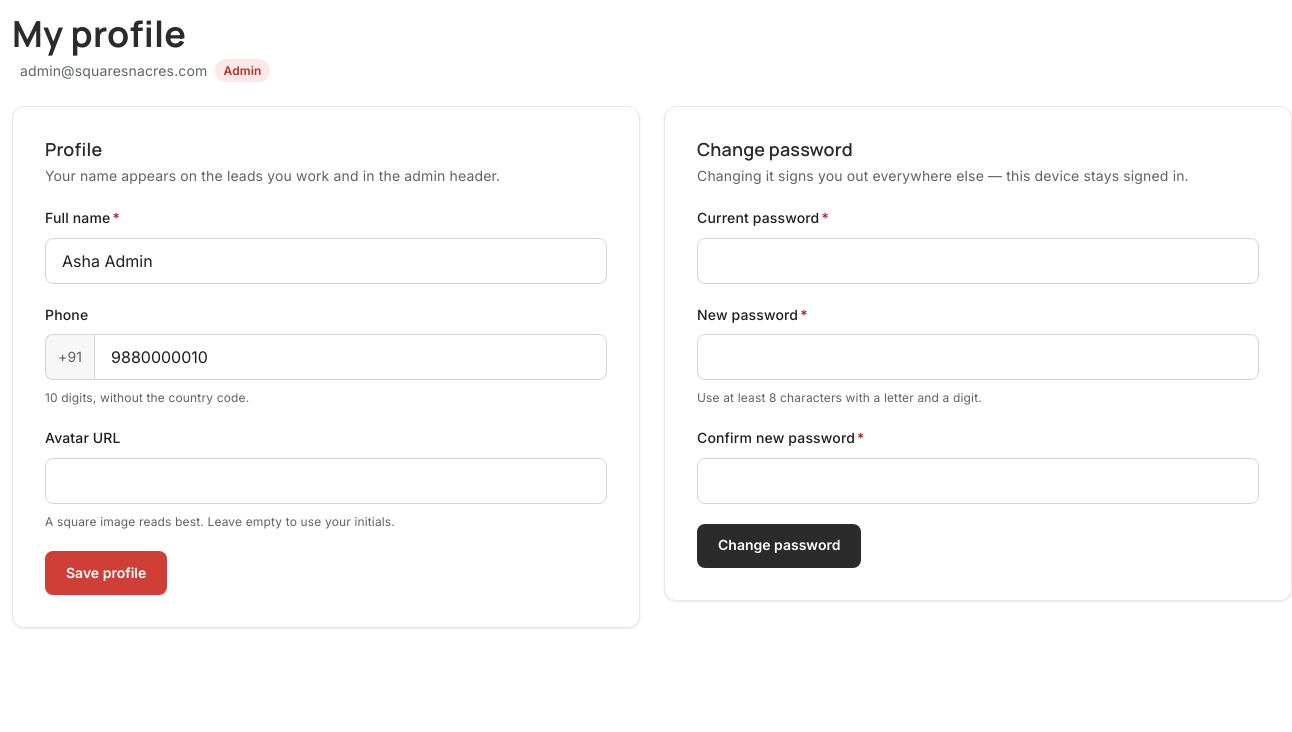
Test case: ProfilePage — the profile form (QA-65) › does not take an answer that is not the record for a save
Replace the text in the field labelled "Full name*" with "Asha Rao" at (326, 261), box [45,238,607,284]
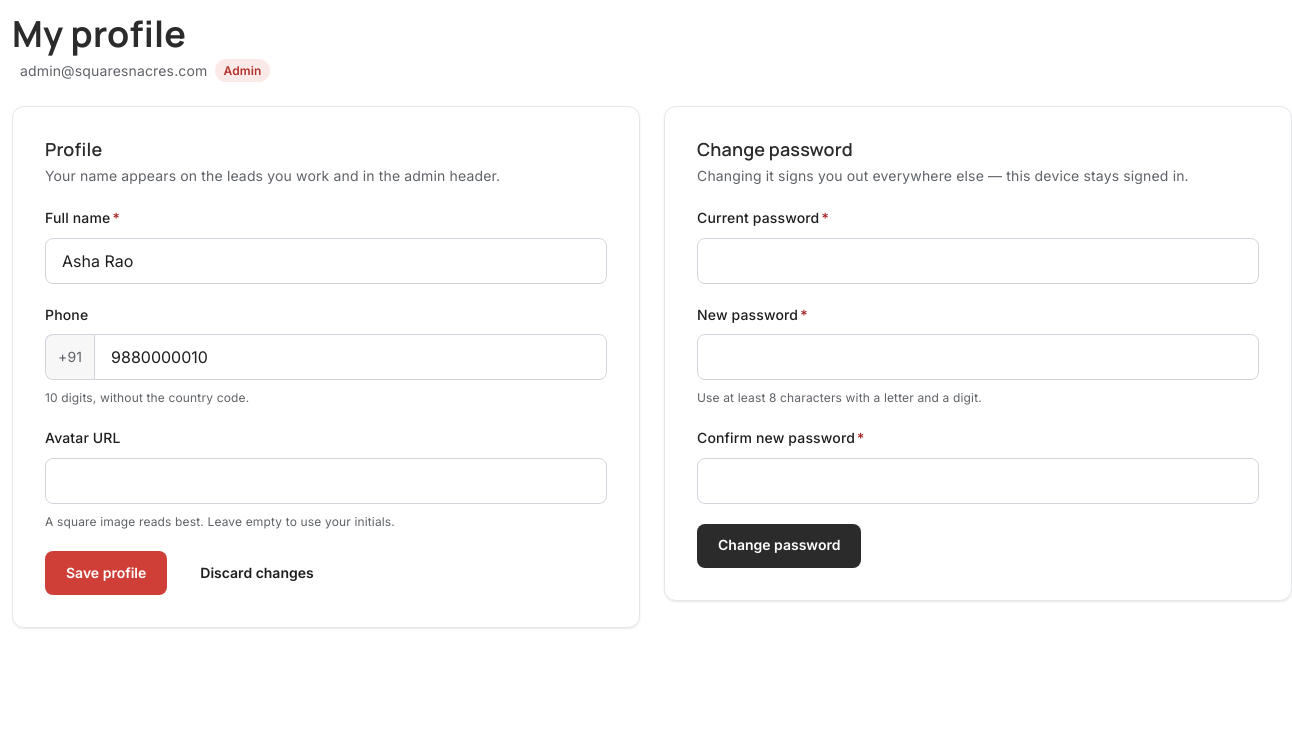
Click the button "Save profile" at (106, 573), box [45,551,167,595]
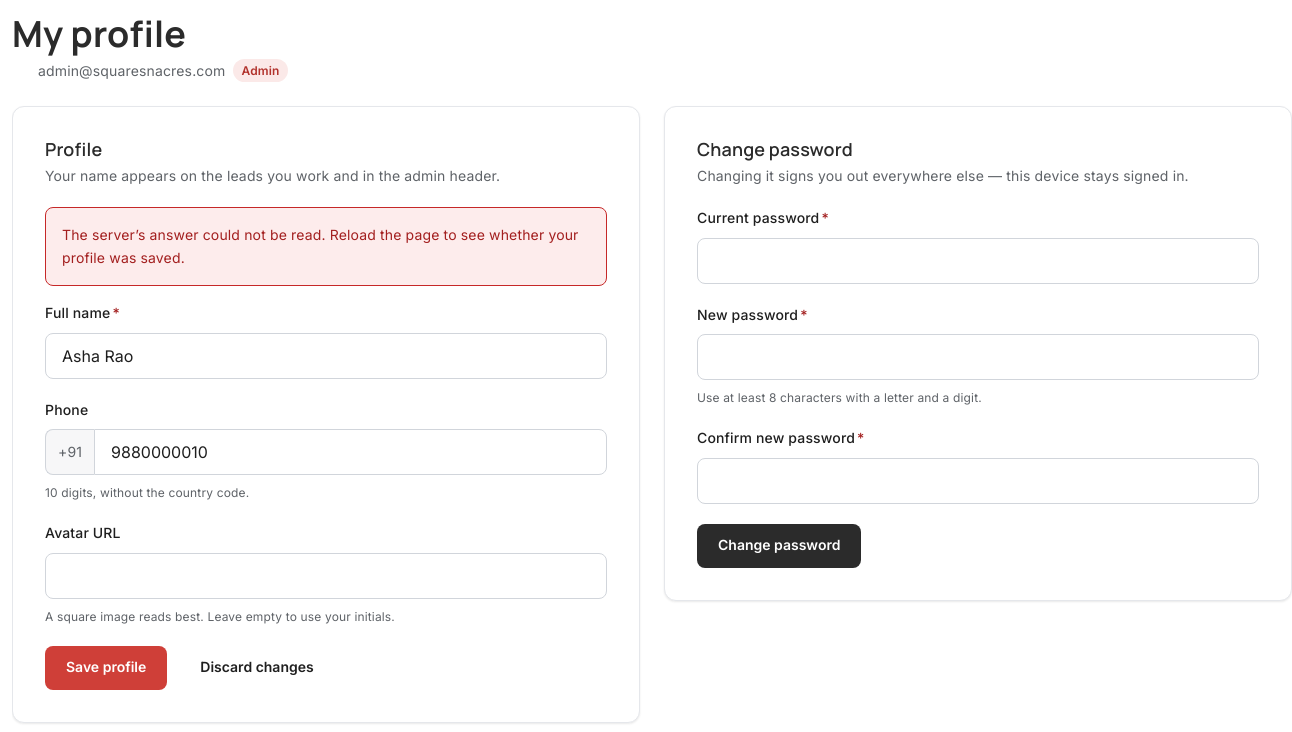
Expected: the text "The server’s answer could not be read." is shown, [62,226,578,266]
